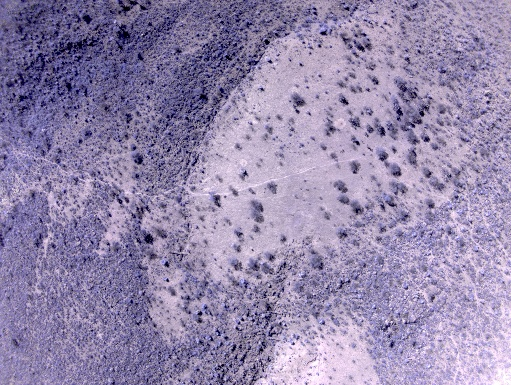agave: (73, 53, 84, 65), (159, 258, 171, 269), (133, 151, 143, 164), (120, 61, 127, 75), (60, 75, 70, 84), (215, 85, 226, 93), (274, 29, 282, 39), (85, 128, 93, 137), (50, 44, 59, 51), (174, 45, 181, 53), (244, 18, 251, 26), (90, 24, 98, 31), (235, 13, 240, 24), (276, 14, 283, 21), (131, 143, 137, 151), (219, 43, 226, 49), (263, 36, 269, 43), (210, 31, 217, 37), (144, 21, 153, 25), (246, 58, 252, 64), (136, 35, 142, 41), (27, 48, 33, 54), (311, 5, 317, 11), (115, 309, 120, 315), (203, 55, 209, 60), (154, 73, 160, 78), (123, 132, 128, 138), (224, 54, 230, 59), (223, 26, 228, 32), (75, 89, 80, 95), (77, 137, 82, 142), (129, 299, 134, 304), (146, 94, 151, 99), (312, 10, 317, 15), (38, 88, 42, 94), (108, 51, 112, 57), (343, 7, 351, 10), (165, 276, 169, 281), (63, 188, 67, 193), (44, 77, 47, 82), (236, 57, 239, 61), (203, 303, 205, 308)
